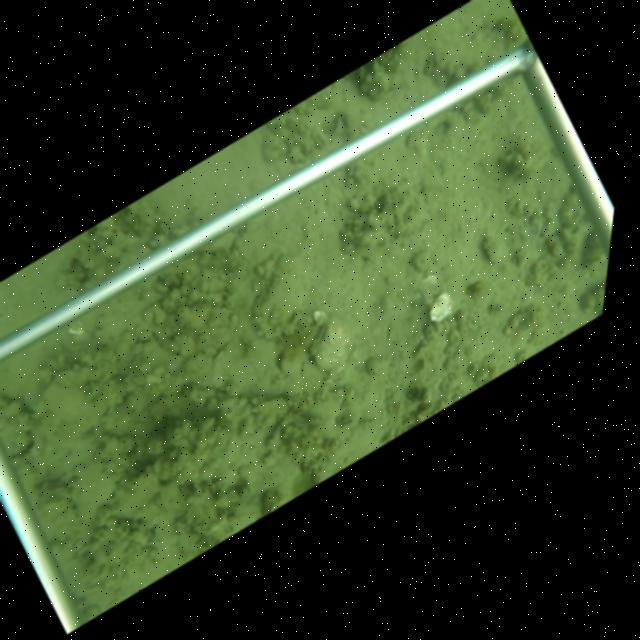Oyster-Closed: (304, 313, 353, 376)
Oyster-Indeterminate: (249, 247, 317, 345), (30, 361, 119, 434), (480, 227, 510, 268)
